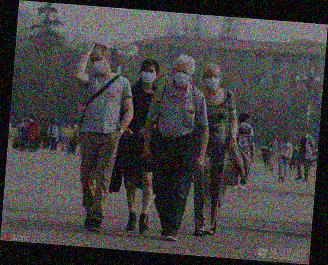with_mask: (173, 67, 191, 88), (89, 56, 107, 76), (139, 68, 157, 84), (204, 72, 220, 90)
without_mask: (284, 136, 290, 143), (303, 127, 308, 135)
